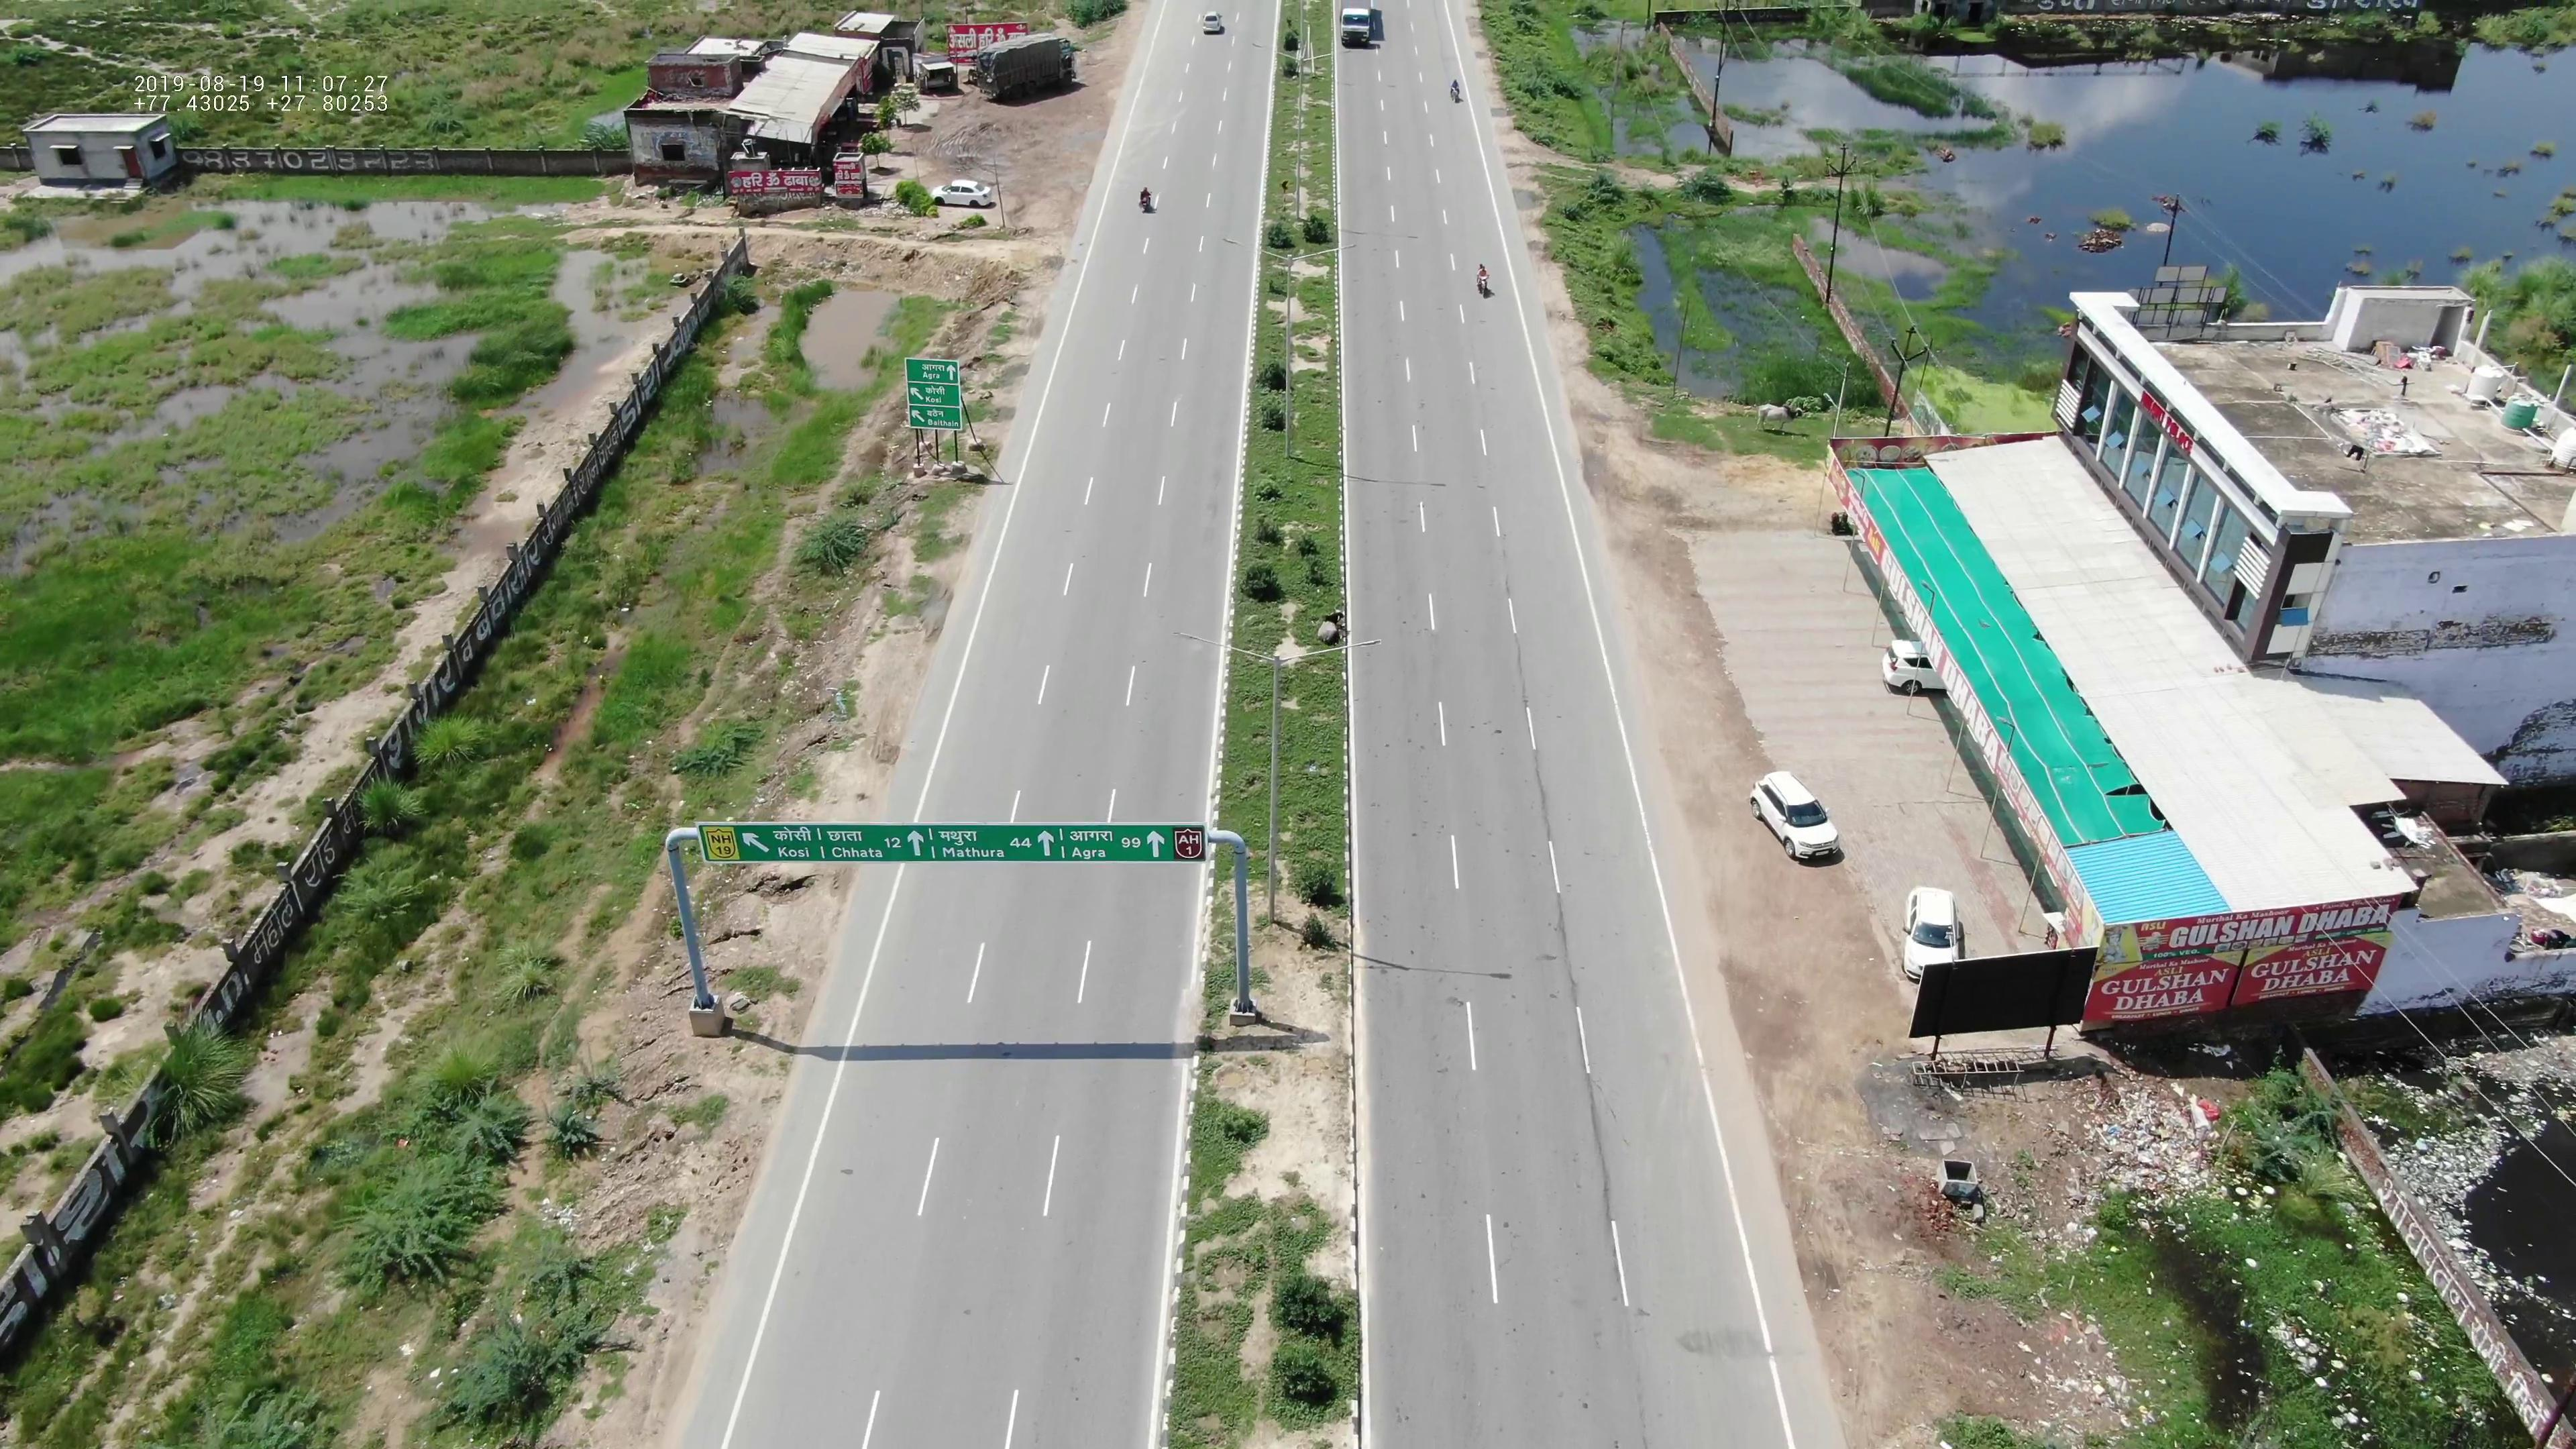Longitudinal_cracks: (1513, 633, 1589, 985), (1560, 922, 1615, 1223)
